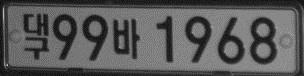1: (153, 15, 179, 62)
6: (216, 16, 244, 64)
8: (249, 15, 278, 65)
9: (184, 15, 212, 63), (82, 13, 108, 61), (52, 13, 77, 60)
대구_V: (22, 12, 49, 60)
바: (112, 18, 139, 59)
